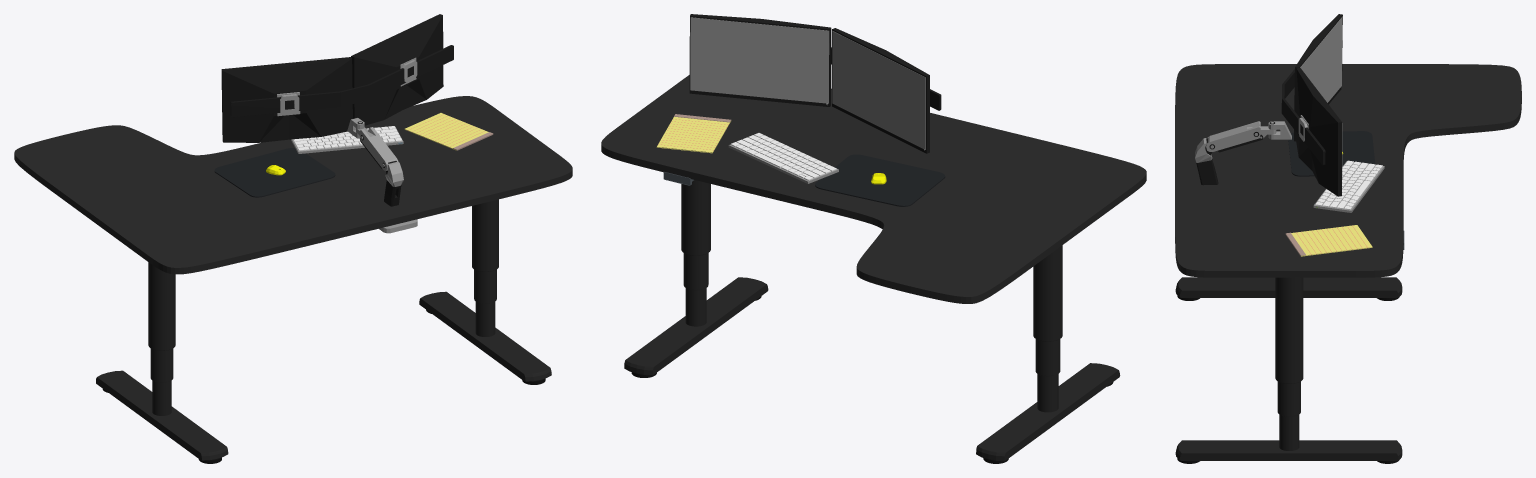
Rendered from sidesDesk.glb.
3 renders of one model, left to right at view 1: azimuth 30°, elevation 25°; view 2: azimuth 150°, elevation 25°; view 3: azimuth 270°, elevation 25°, orthographic. The views are drawn at different scales.
Parts seen in each view (by area): view 1: Desk, Dual Monitors on sit-stand arm|group1691283673|Dupli|23, Dual Monitors on sit-stand arm|group860618825|Dupli|22, Mousepad.001, Dual Monitors on sit-stand arm|group2128326706|Dupli|16, Notebook|Notebook_Cube.041|Dupli|, Dual Monitors on sit-stand arm|group1219313228|Dupli|2, Dual Monitors on sit-stand arm|group329542522|Dupli|; view 2: Desk, Dual Monitors on sit-stand arm|group860618825|Dupli|22, Dual Monitors on sit-stand arm|group1691283673|Dupli|23, Mousepad.001, Notebook|Notebook_Cube.041|Dupli|; view 3: Desk, Dual Monitors on sit-stand arm|group860618825|Dupli|22, Dual Monitors on sit-stand arm|group1691283673|Dupli|23, Notebook|Notebook_Cube.041|Dupli|, Mousepad.001, Dual Monitors on sit-stand arm|group2128326706|Dupli|16, Dual Monitors on sit-stand arm|group1219313228|Dupli|2, Keyboard|group311988427|Dupli|1, Dual Monitors on sit-stand arm|group329542522|Dupli|.
Boxes of the visible parts, x1,y1,x2,y2 form: Desk: (14, 96, 572, 463); Dual Monitors on sit-stand arm|group1691283673|Dupli|23: (221, 57, 352, 142); Dual Monitors on sit-stand arm|group860618825|Dupli|22: (351, 14, 443, 125); Mousepad.001: (214, 148, 335, 197); Dual Monitors on sit-stand arm|group2128326706|Dupli|16: (230, 45, 453, 117); Notebook|Notebook_Cube.041|Dupli|: (404, 113, 493, 150); Dual Monitors on sit-stand arm|group1219313228|Dupli|2: (360, 127, 398, 171); Dual Monitors on sit-stand arm|group329542522|Dupli|: (379, 180, 417, 233); Desk: (601, 75, 1146, 463); Dual Monitors on sit-stand arm|group860618825|Dupli|22: (689, 14, 831, 106); Dual Monitors on sit-stand arm|group1691283673|Dupli|23: (832, 28, 929, 153); Mousepad.001: (815, 154, 945, 206); Notebook|Notebook_Cube.041|Dupli|: (656, 114, 731, 153); Desk: (1175, 64, 1521, 463); Dual Monitors on sit-stand arm|group860618825|Dupli|22: (1296, 68, 1342, 196); Dual Monitors on sit-stand arm|group1691283673|Dupli|23: (1294, 14, 1342, 141); Notebook|Notebook_Cube.041|Dupli|: (1285, 225, 1372, 256); Mousepad.001: (1288, 131, 1375, 176); Dual Monitors on sit-stand arm|group2128326706|Dupli|16: (1281, 69, 1325, 165); Dual Monitors on sit-stand arm|group1219313228|Dupli|2: (1206, 121, 1260, 151); Keyboard|group311988427|Dupli|1: (1313, 161, 1384, 212); Dual Monitors on sit-stand arm|group329542522|Dupli|: (1196, 159, 1218, 185).
Size of the model in its own units: 2 by 1.47 by 1.42.
Materials: 17 (1 with a texture image).
